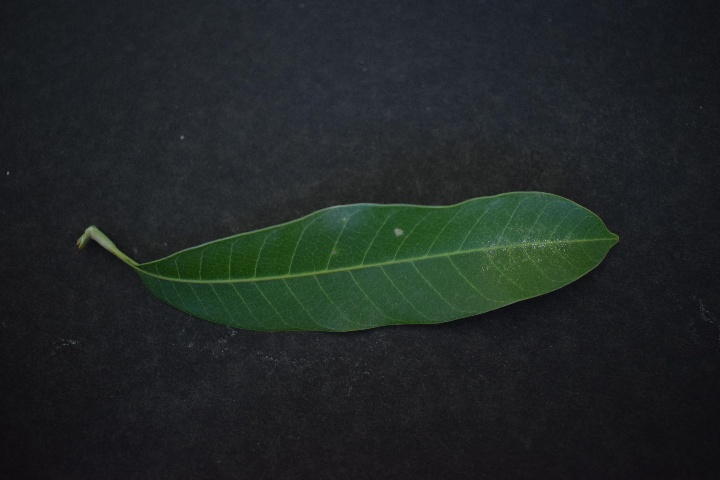healthy: (152, 184, 611, 343)
